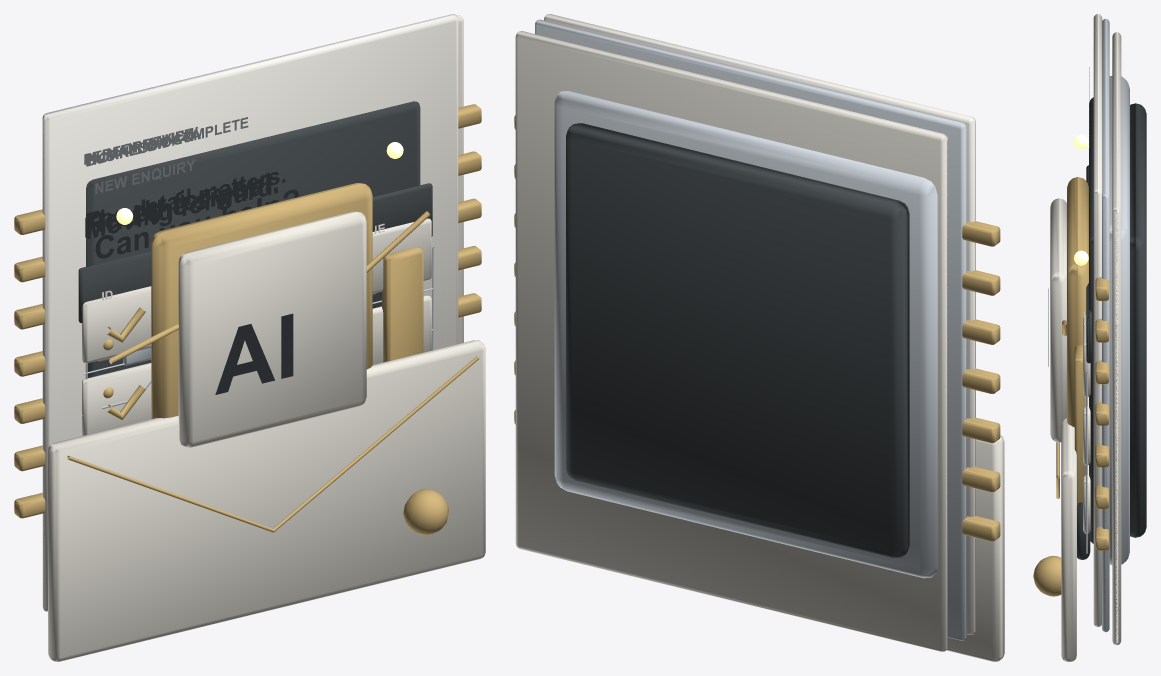
The model's file is ventura-ai-workflow.glb.
3 views of the same model, side by side, from view 1: azimuth 30°, elevation 25°; view 2: azimuth 150°, elevation 25°; view 3: azimuth 270°, elevation 25° (orthographic). The views are drawn at different scales.
Visible parts, largest first — view 1: Enquiry_Geometry, Processor_Geometry, Actions_Geometry, Approval_Geometry, Analytics_Geometry, Dataset_Geometry; view 2: Processor_Geometry, Analytics_Geometry, Actions_Geometry, Enquiry_Geometry, Approval_Geometry, Dataset_Geometry; view 3: Processor_Geometry, Actions_Geometry, Analytics_Geometry, Enquiry_Geometry, Approval_Geometry, Dataset_Geometry.
Boxes of the visible parts, x1,y1,x2,y2 form: Enquiry_Geometry: (48,111,485,661); Processor_Geometry: (14,101,481,518); Actions_Geometry: (42,14,463,592); Approval_Geometry: (42,48,463,611); Analytics_Geometry: (42,14,459,611); Dataset_Geometry: (68,131,452,415); Processor_Geometry: (514,91,1000,578); Analytics_Geometry: (515,14,975,651); Actions_Geometry: (515,14,975,651); Enquiry_Geometry: (761,134,1004,661); Approval_Geometry: (566,46,975,651); Dataset_Geometry: (520,113,761,577); Processor_Geometry: (1048,76,1146,565); Actions_Geometry: (1083,14,1121,645); Analytics_Geometry: (1062,14,1121,644); Enquiry_Geometry: (1033,418,1076,661); Approval_Geometry: (1077,68,1120,643); Dataset_Geometry: (1084,165,1091,553).
Bounding box in the file's own units: 2.12 × 2.33 × 0.512.
